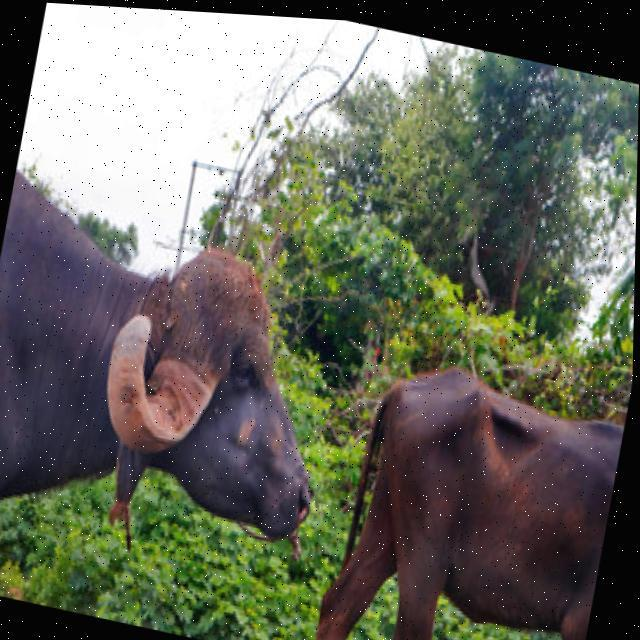Buffalo: (0, 155, 365, 636)
